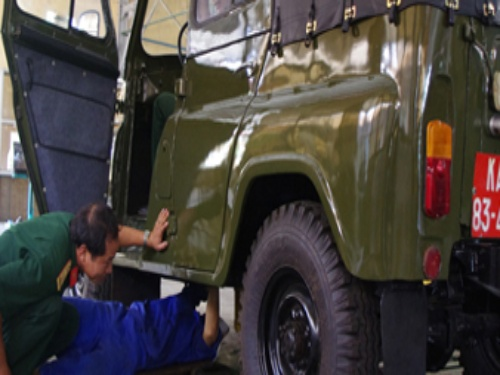plate: (469, 149, 500, 234)
